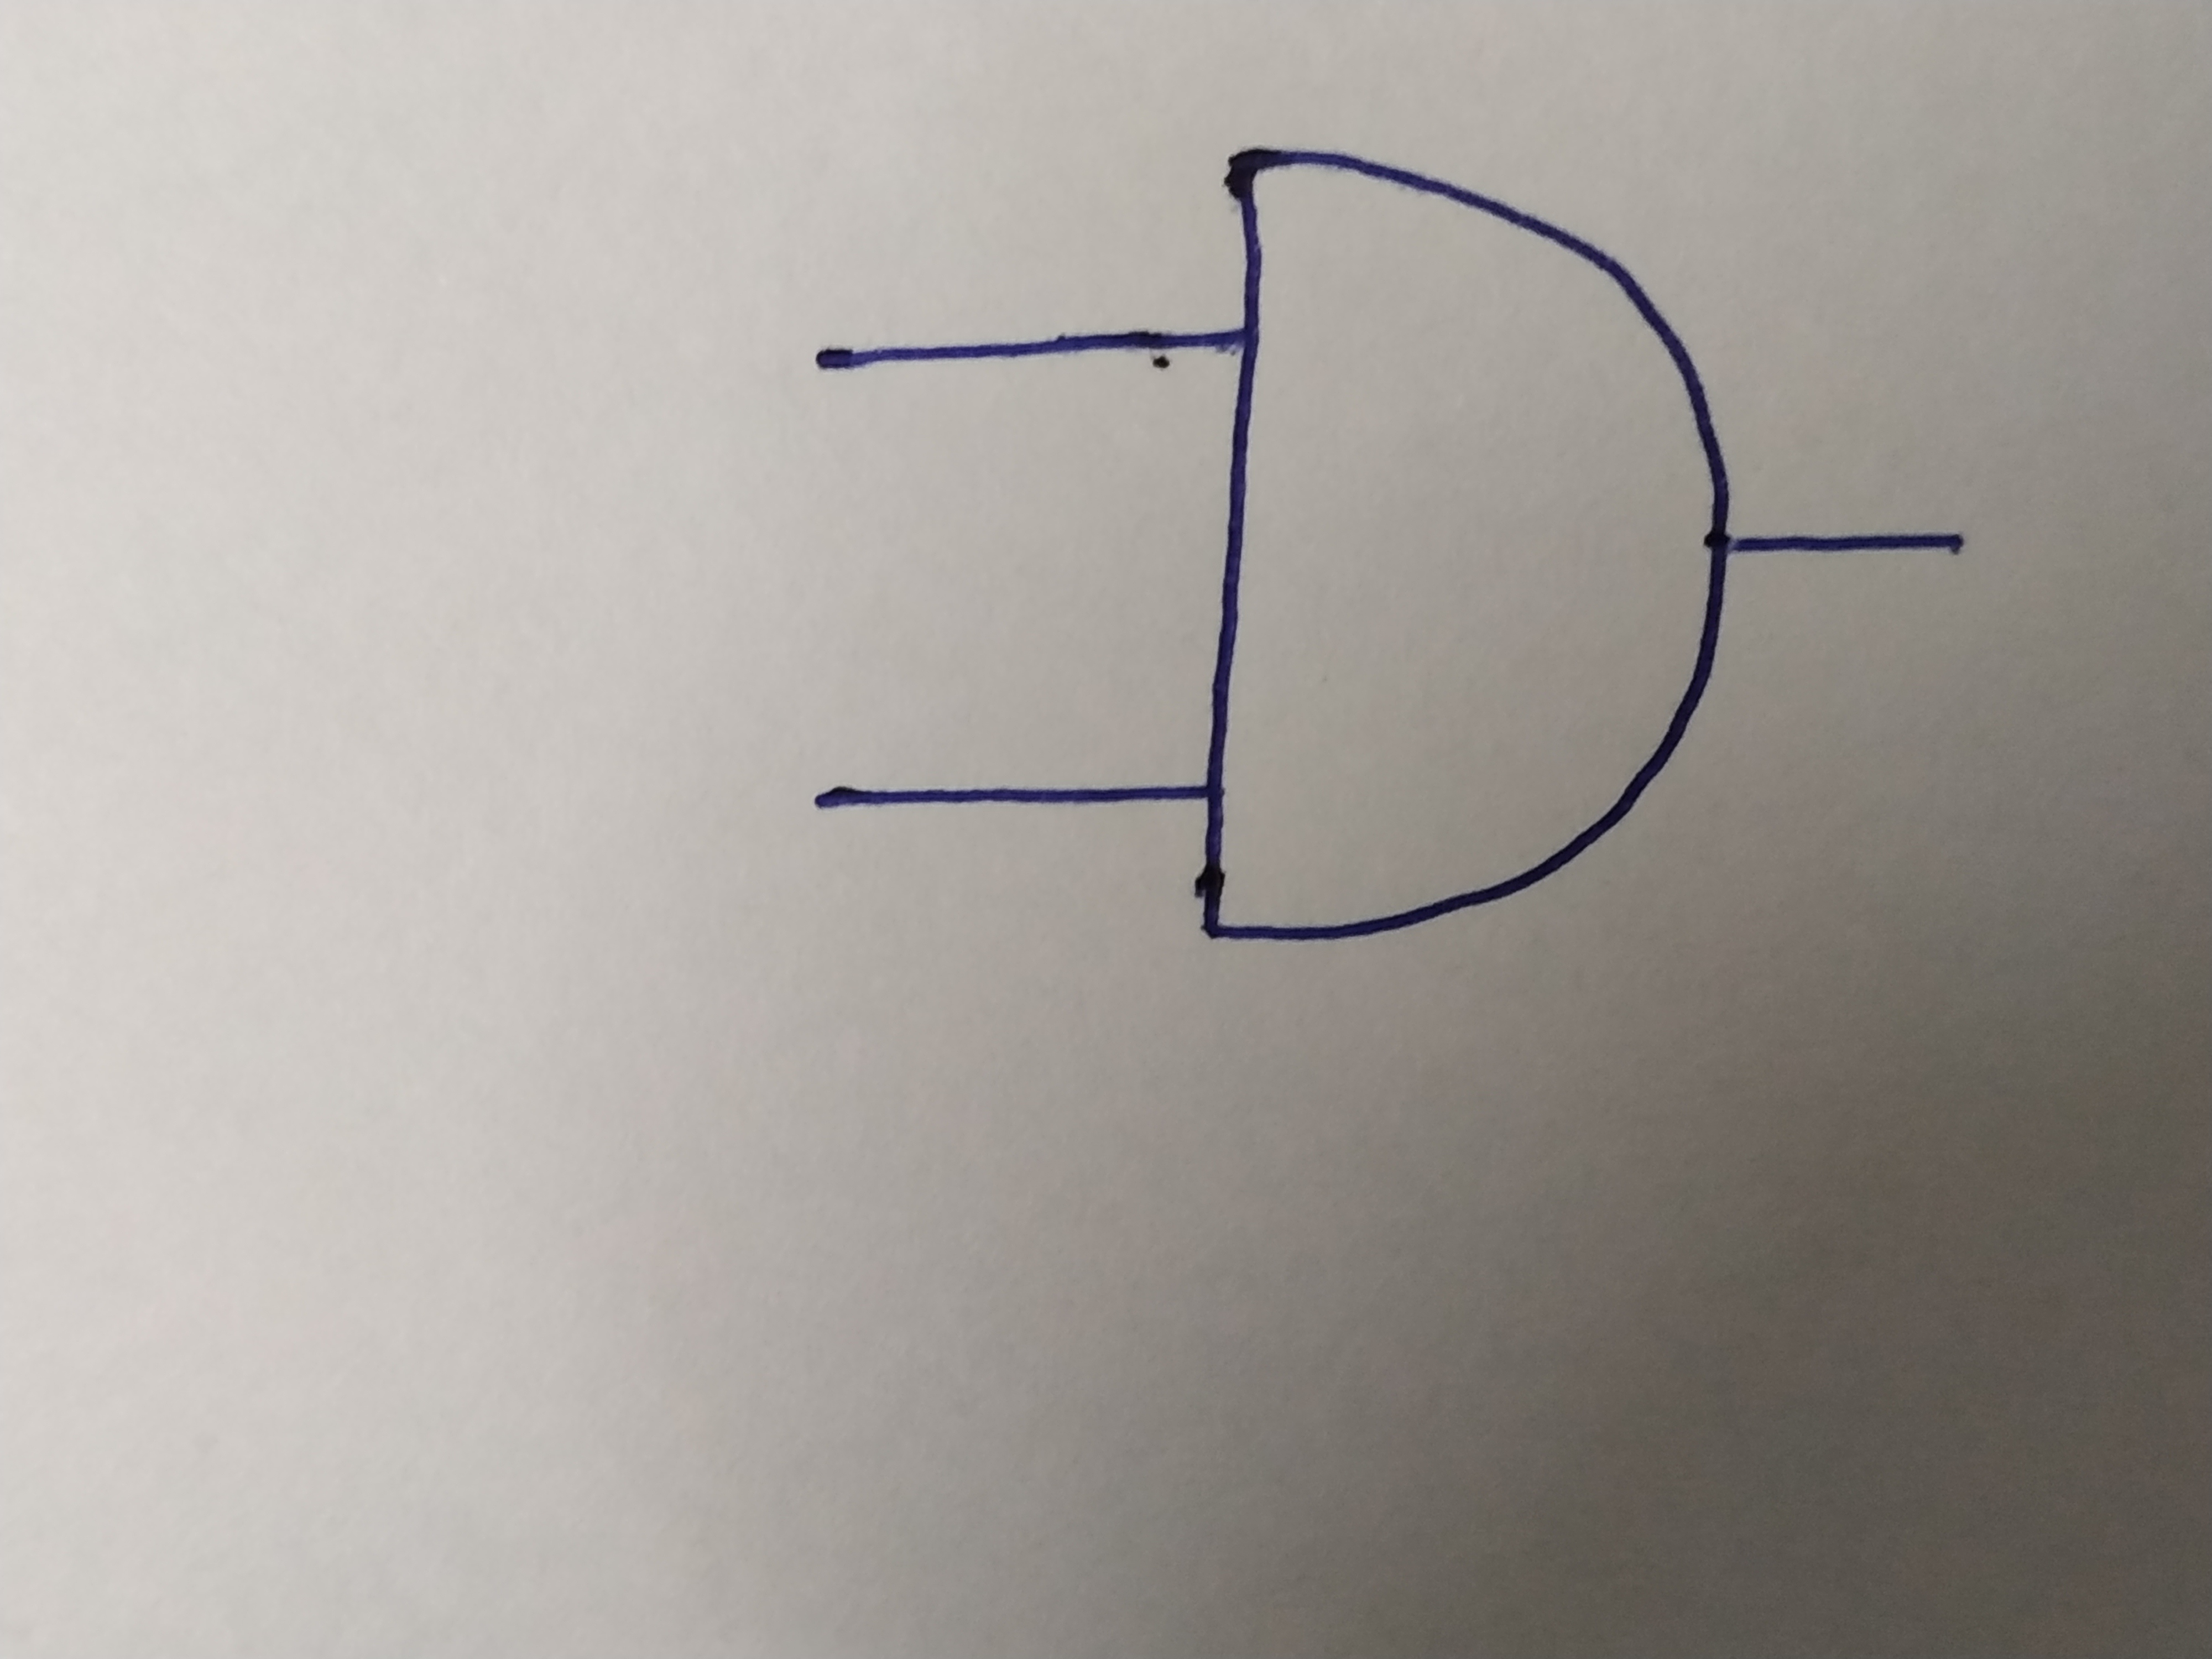and: (1226, 148, 1721, 945)
